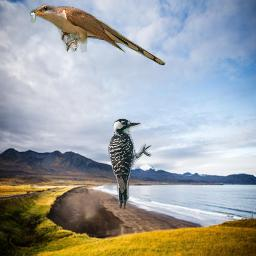Cuckoo: (27, 4, 166, 66)
Woodpecker: (107, 118, 153, 209)
